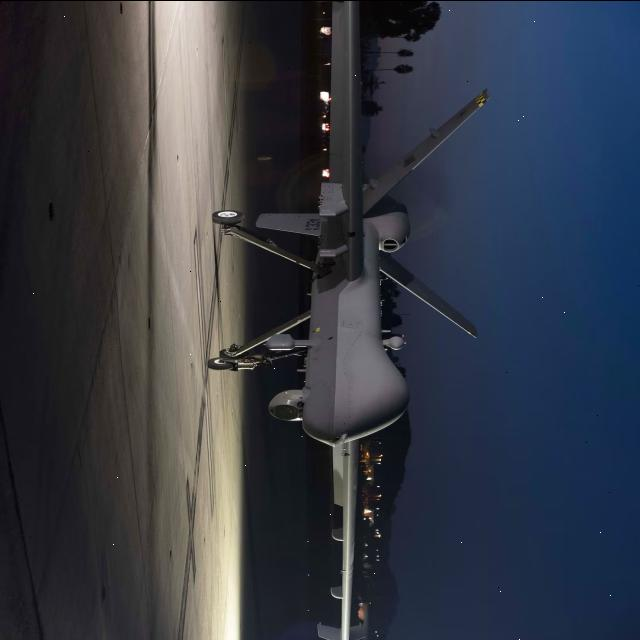MQ9: (174, 0, 527, 640)
